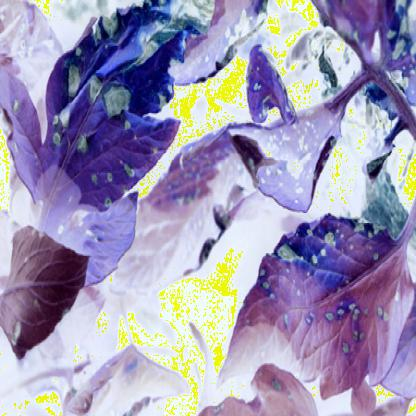tomato septoria leaf spot: (22, 4, 195, 247), (220, 204, 413, 396), (222, 64, 365, 219)
